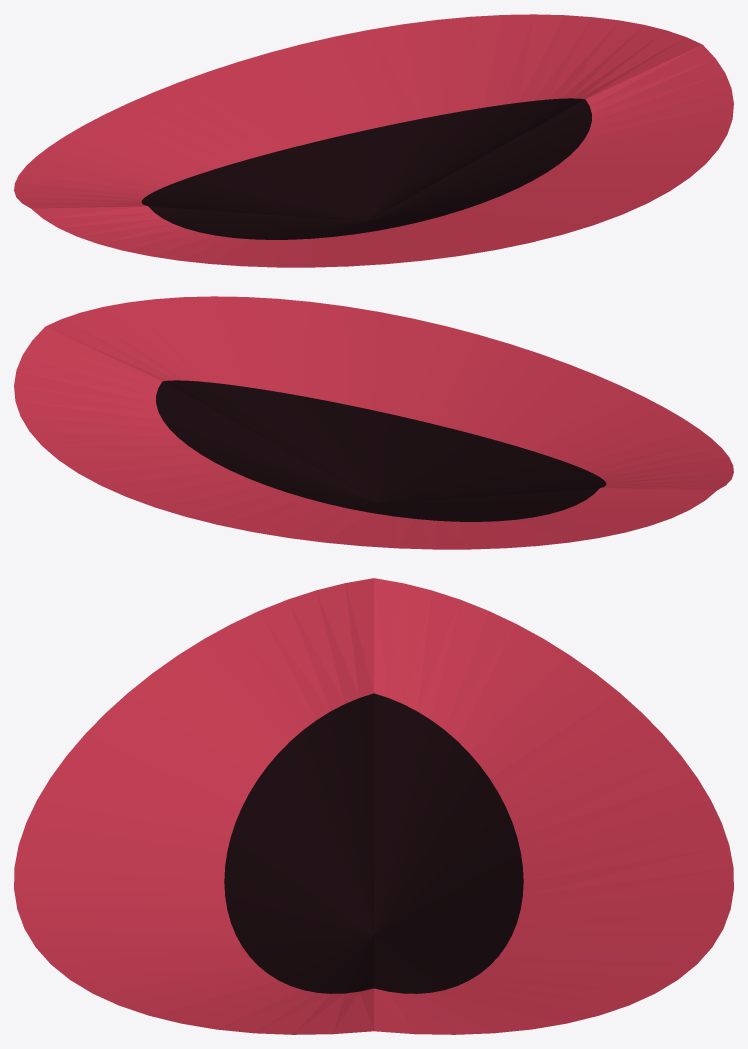
The model's file is viseme-round.obj.
3 renders of one model, top to bottom at view 1: azimuth 30°, elevation 25°; view 2: azimuth 150°, elevation 25°; view 3: azimuth 270°, elevation 25°, orthographic. The views are drawn at different scales.
Visible parts, largest first — view 1: viseme_round; view 2: viseme_round; view 3: viseme_round.
Boxes of the visible parts, x1,y1,x2,y2 form: viseme_round: [14, 14, 733, 267]; viseme_round: [14, 296, 733, 549]; viseme_round: [14, 578, 733, 1034].
Size of the model in its own units: 0.43 by 0.058 by 0.2887.
